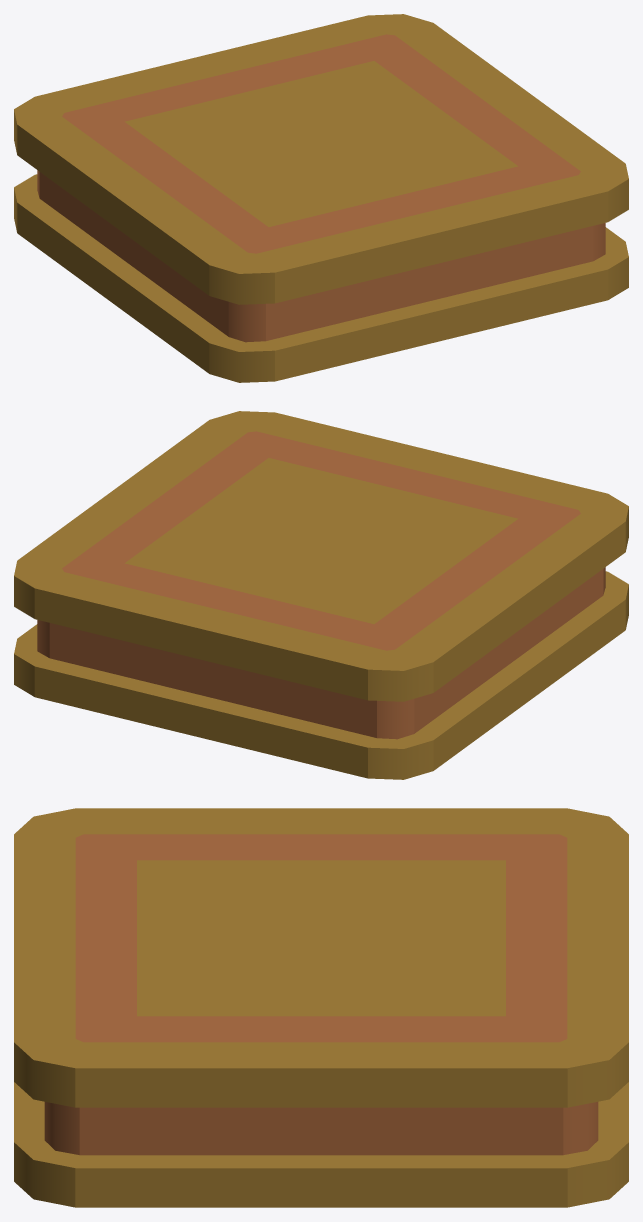
Rendered from blockMoving.glb.
3 renders of one model, top to bottom at view 1: azimuth 30°, elevation 25°; view 2: azimuth 150°, elevation 25°; view 3: azimuth 270°, elevation 25°, orthographic. The views are drawn at different scales.
Parts seen in each view (by area): view 1: blockMoving; view 2: blockMoving; view 3: blockMoving.
Boxes of the visible parts, left/top/right/bottom form: blockMoving: left=14, top=14, right=628, bottom=382; blockMoving: left=14, top=411, right=628, bottom=779; blockMoving: left=14, top=808, right=628, bottom=1207.
Bounding box in the file's own units: 1 × 0.25 × 1.
